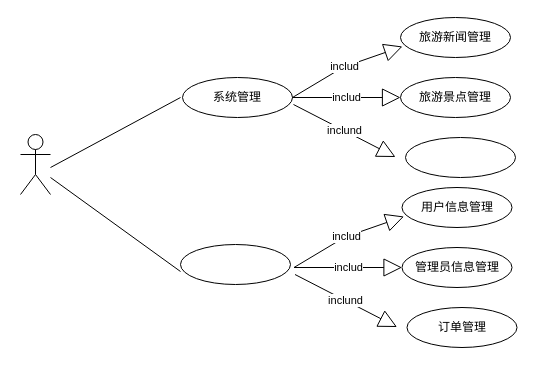
The diagram is 535 pixels wide and 365 high, and some of its shapes have lost their labels. Each missing label, with the box of its shape:
基础资料管理: (180, 244, 290, 284)
旅游路线管理: (404, 136, 516, 178)
管理员: (20, 134, 50, 194)
